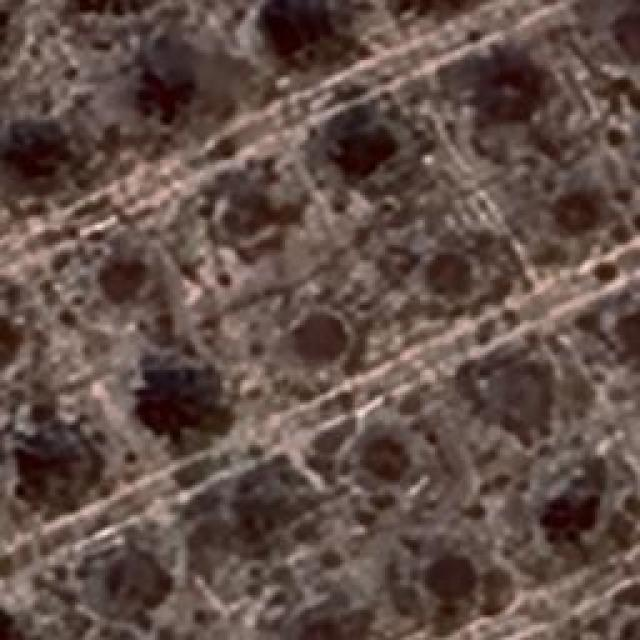PalmTree: (84, 12, 431, 85), (48, 85, 84, 452), (142, 362, 220, 438), (331, 102, 394, 196), (4, 119, 88, 179), (131, 56, 194, 126), (266, 0, 336, 55), (386, 0, 480, 17), (68, 0, 161, 17), (68, 0, 161, 11)
